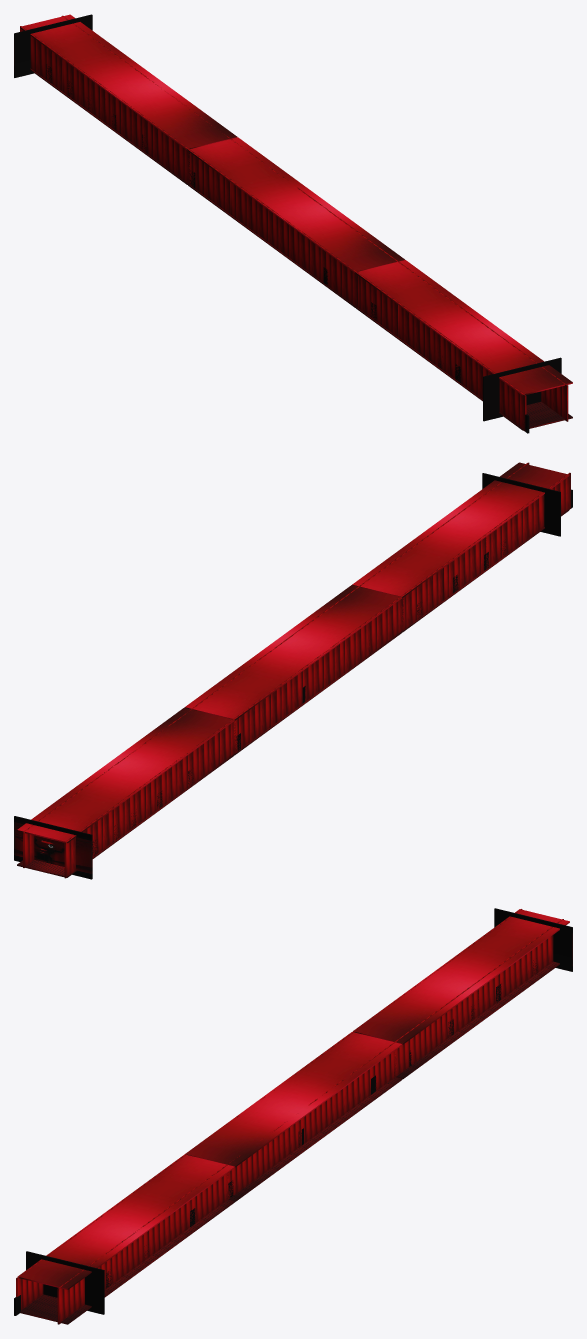
The model's file is exit.obj.
3 views of the same model, one above another, from view 1: azimuth 30°, elevation 25°; view 2: azimuth 150°, elevation 25°; view 3: azimuth 330°, elevation 25° (orthographic).
Visible parts, largest first — view 1: Object_170_material_5, Object_160_material_5, Object_306_material_5, Object_486_material_0, Object_27_material_2, Object_308_material_4; view 2: Object_170_material_5, Object_160_material_5, Object_306_material_5, Object_27_material_2, Object_486_material_0, Object_158_material_4; view 3: Object_170_material_5, Object_306_material_5, Object_160_material_5, Object_308_material_4, Object_486_material_0, Object_172_material_4, Object_158_material_4, Object_27_material_2.
Part boxes in pixels (box(x1,y1,x2,y2)): Object_170_material_5: box(188, 137, 404, 273); Object_160_material_5: box(20, 14, 237, 150); Object_306_material_5: box(355, 260, 572, 395); Object_486_material_0: box(483, 357, 561, 421); Object_27_material_2: box(14, 14, 92, 77); Object_308_material_4: box(355, 307, 572, 430); Object_170_material_5: box(184, 585, 401, 720); Object_160_material_5: box(17, 707, 234, 843); Object_306_material_5: box(352, 462, 569, 597); Object_27_material_2: box(14, 816, 92, 879); Object_486_material_0: box(482, 473, 560, 536); Object_158_material_4: box(17, 754, 234, 877); Object_170_material_5: box(185, 1032, 402, 1167); Object_306_material_5: box(17, 1154, 234, 1289); Object_160_material_5: box(353, 909, 569, 1044); Object_308_material_4: box(20, 1199, 234, 1324); Object_486_material_0: box(26, 1251, 104, 1314); Object_172_material_4: box(228, 1077, 402, 1201); Object_158_material_4: box(396, 961, 559, 1079); Object_27_material_2: box(494, 908, 572, 971).
Bounding box in the file's own units: 176 × 95.82 × 1990.
Materials: 6 (6 with a texture image).
